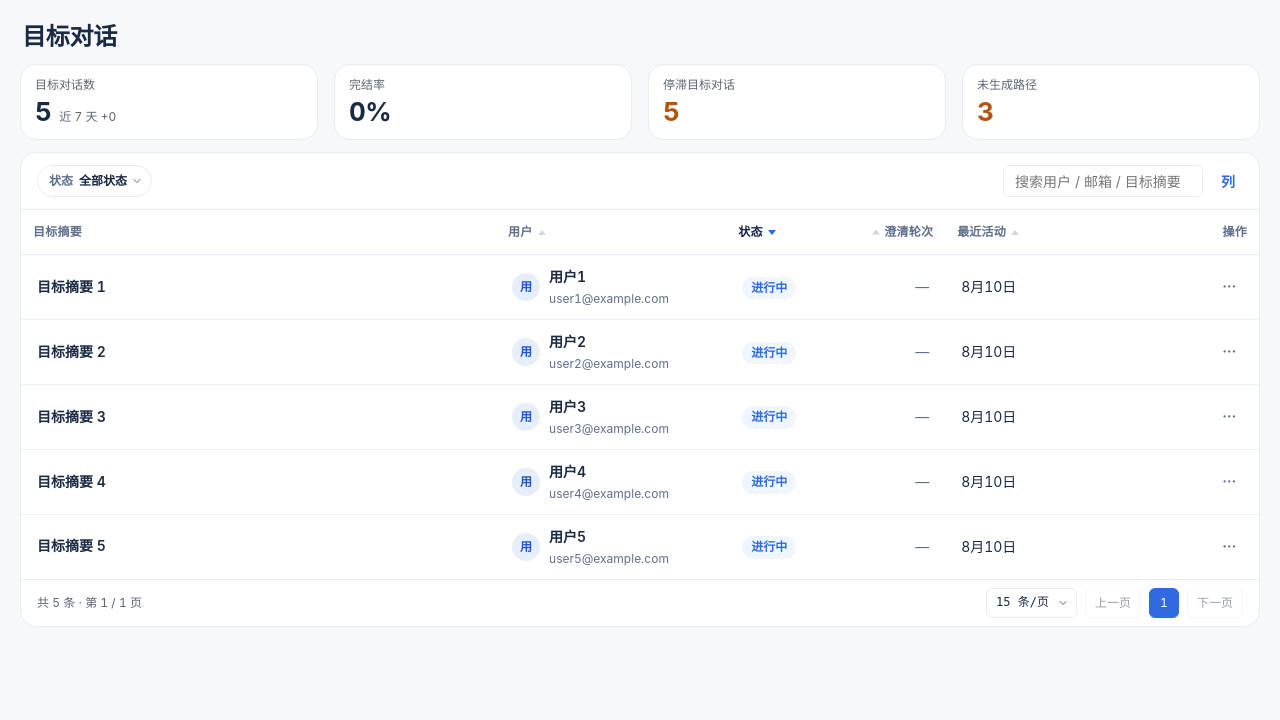
Scenario: GoalConversations 状态桶口径 / 停滞信号 / 行点击语义（P1#5、P1#6、2026-10-02 对齐） › 筛选无匹配：只留「当前筛选无匹配」+ 清除筛选（不再有「放宽筛选条件试试」）
This screenshot has width=1280, height=720.
In the field with placeholder "搜索用户 / 邮箱 / 目标摘要": (1103, 181) [1003,165,1203,197], type "绝不匹配的关键词"
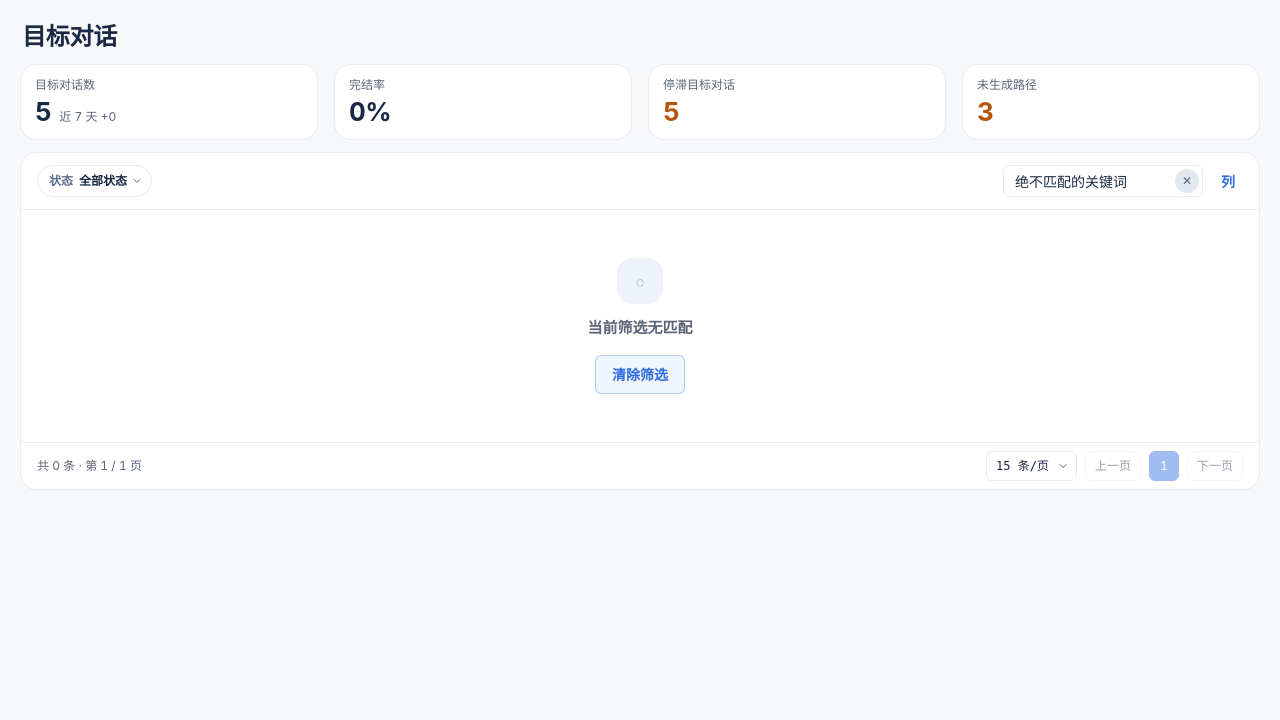
Expected: the element with class "mk-empty" shows "当前筛选无匹配", [588,318,692,337]
